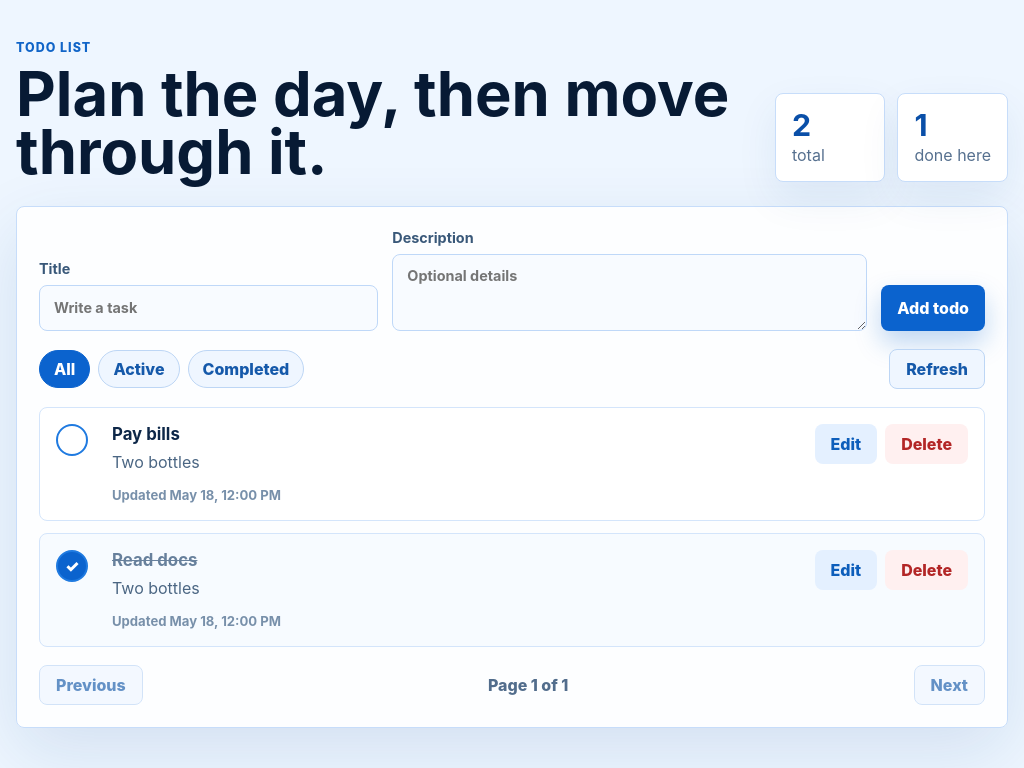
it: App › toggles completion and filters visible todos
This screenshot has width=1024, height=768.
Expected: the heading "Pay bills" is shown, [112,424,180,444]
Click the button named "Mark completed" at (72, 440), box [56,424,88,456]
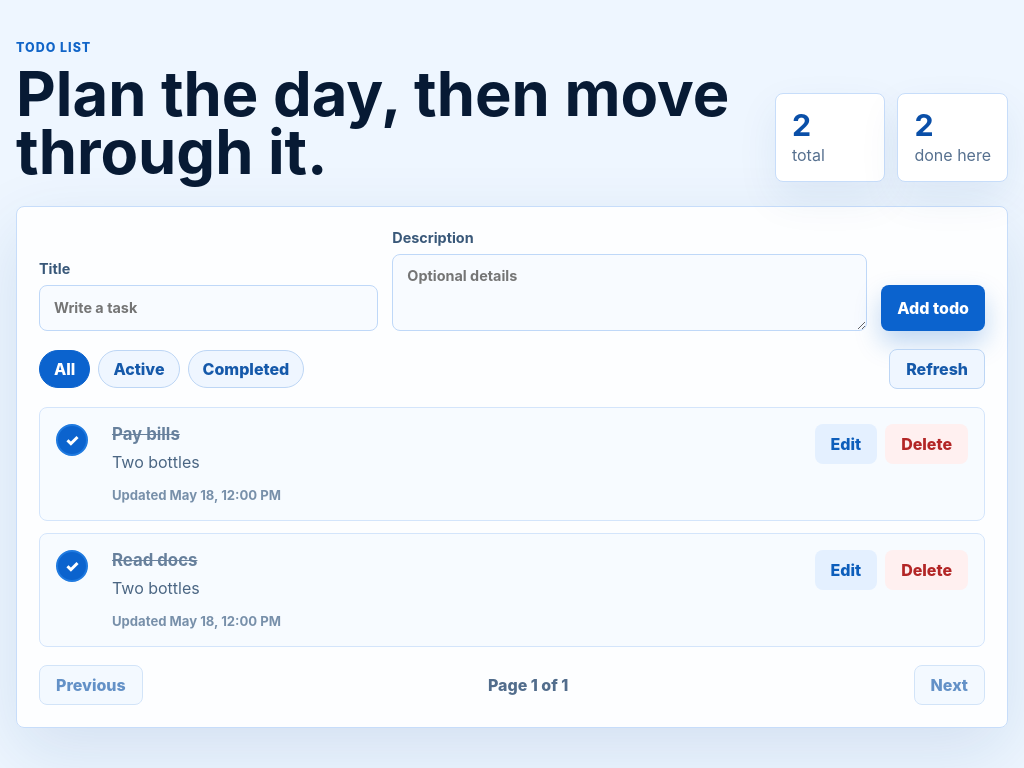
Click the button "completed" at (246, 369), box [188,350,304,388]
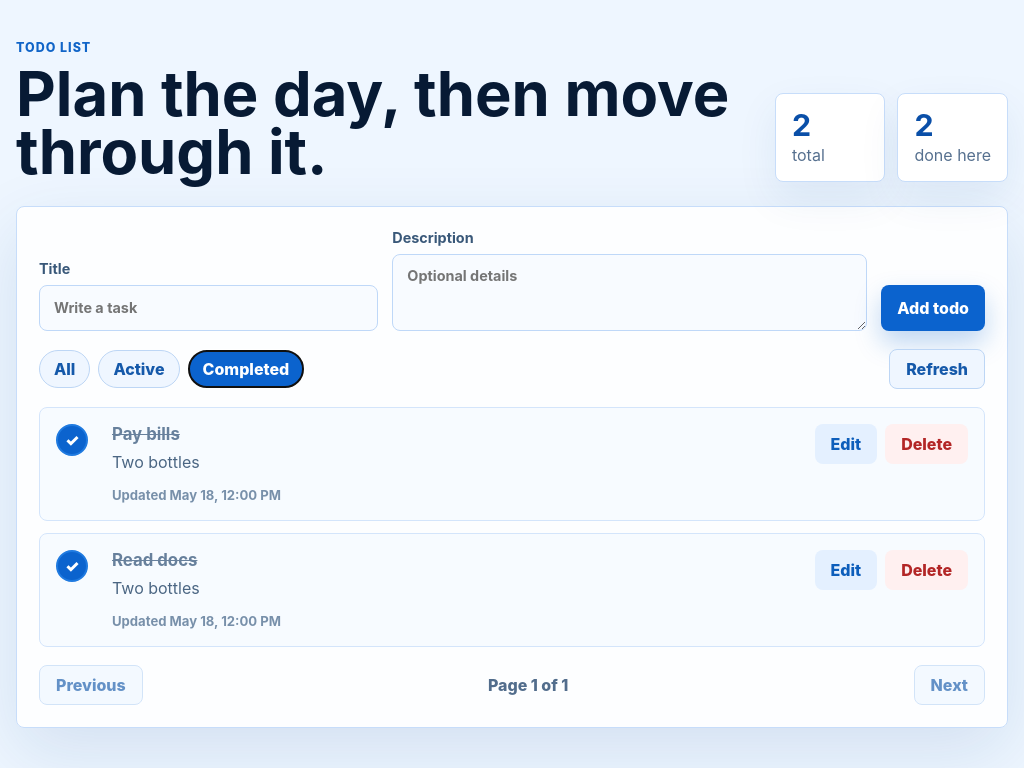
Expected: the heading "Pay bills" is shown, [112,424,180,444]
Expected: the heading "Read docs" is shown, [112,550,197,570]
Click the button "active" at (139, 369), box [98,350,180,388]
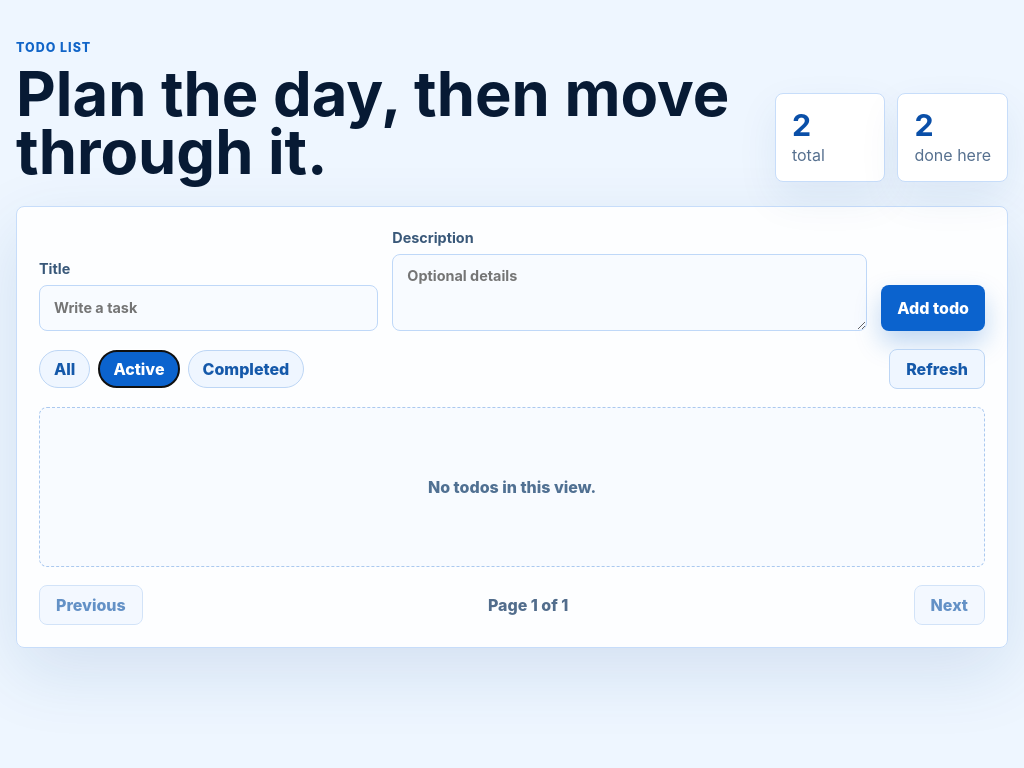
Expected: the text "No todos in this view." is shown, [39,407,985,567]
